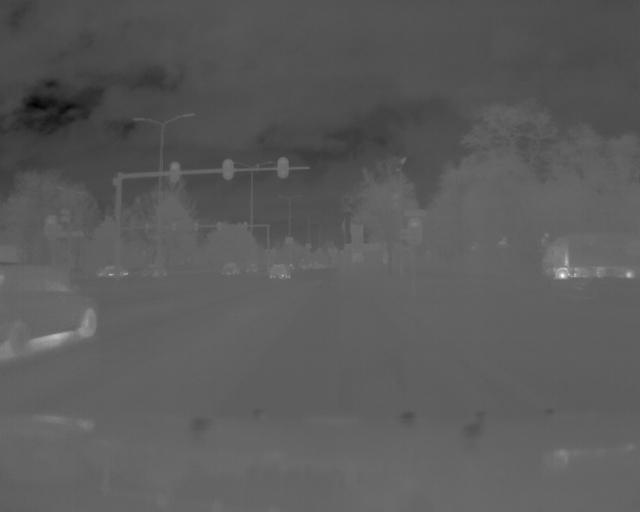car: (1, 271, 101, 355), (540, 230, 640, 285), (268, 261, 294, 282)
